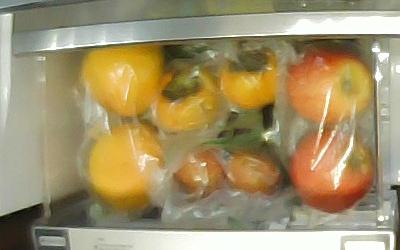apple_vinyl: (290, 129, 373, 214), (286, 45, 373, 125)
grapefruit_vinyl: (90, 124, 164, 211), (83, 43, 164, 118)
persimmon_vinyl: (154, 66, 217, 133), (218, 46, 279, 110)
prune_vinyl: (223, 150, 283, 196), (173, 149, 222, 197)
